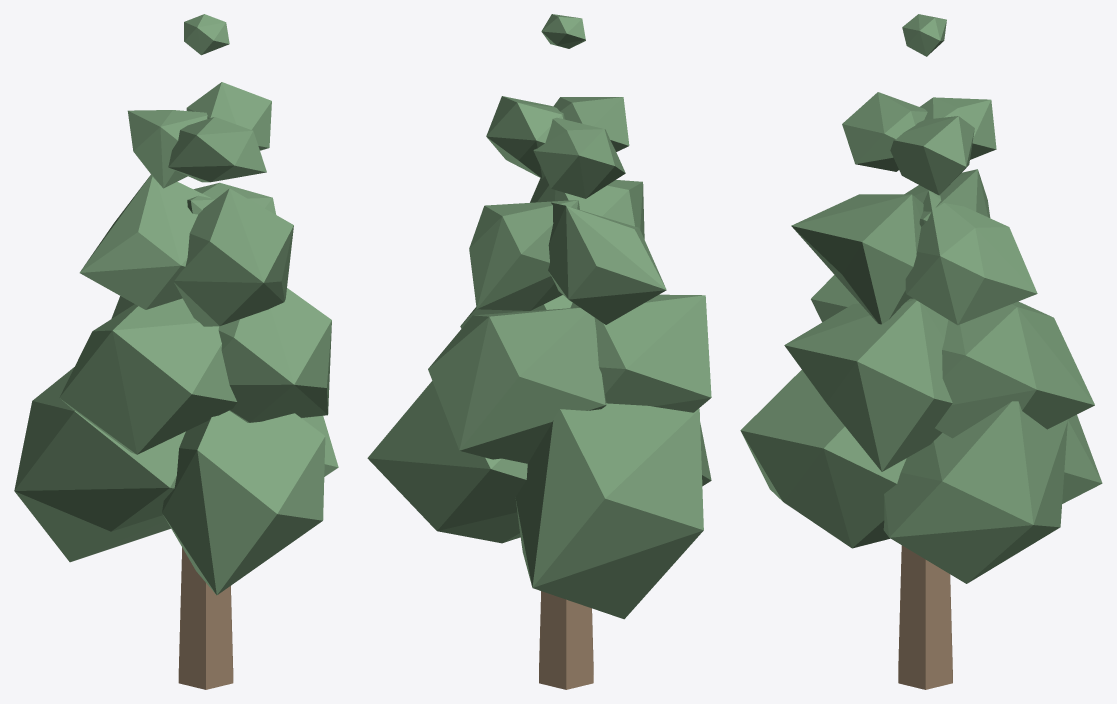
The model's file is tree_genpine2.glb.
3 renders of one model, left to right at view 1: azimuth 30°, elevation 25°; view 2: azimuth 150°, elevation 25°; view 3: azimuth 270°, elevation 25°, orthographic.
Parts seen in each view (by area): view 1: hull; view 2: hull; view 3: hull.
Part boxes in pixels (bbox=[...]): hull: bbox=[14, 14, 338, 689]; hull: bbox=[367, 14, 711, 689]; hull: bbox=[740, 14, 1102, 689].
Size of the model in its own units: 4.53 by 9.25 by 4.6.
